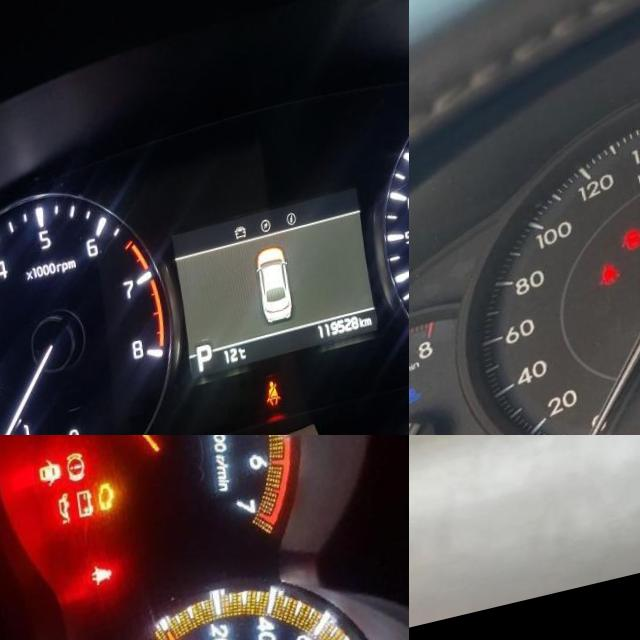Seat Belt: (83, 575, 108, 601), (588, 273, 610, 300)
